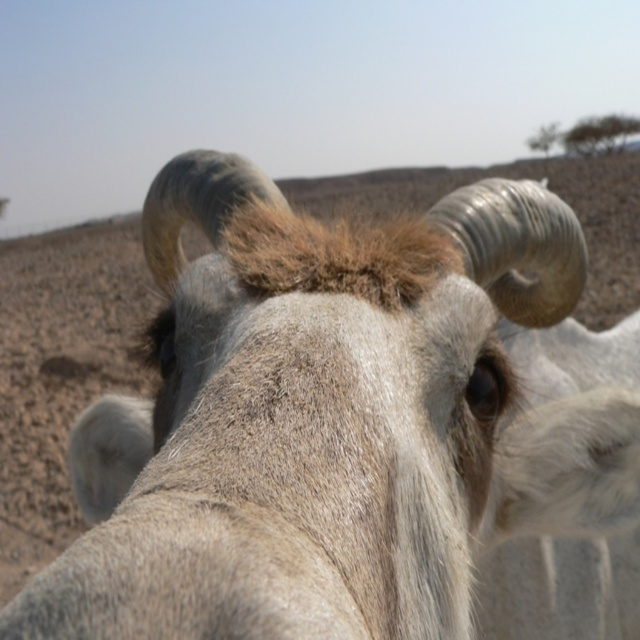Cattle: (0, 148, 640, 640)
